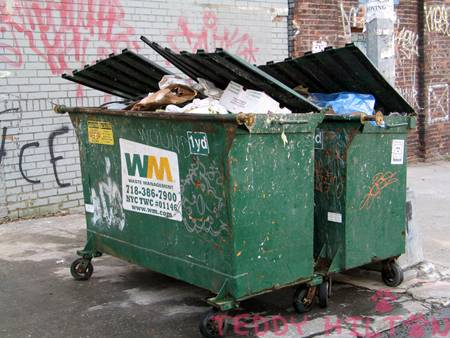Dumpster: (55, 33, 325, 314), (298, 40, 425, 308)
